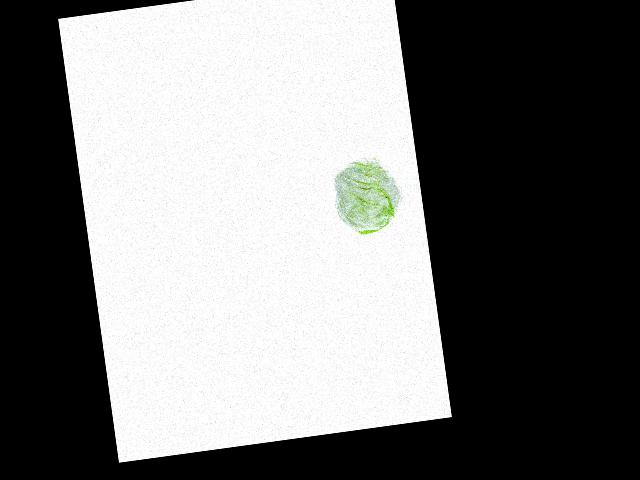lettuce: (333, 154, 405, 235)
